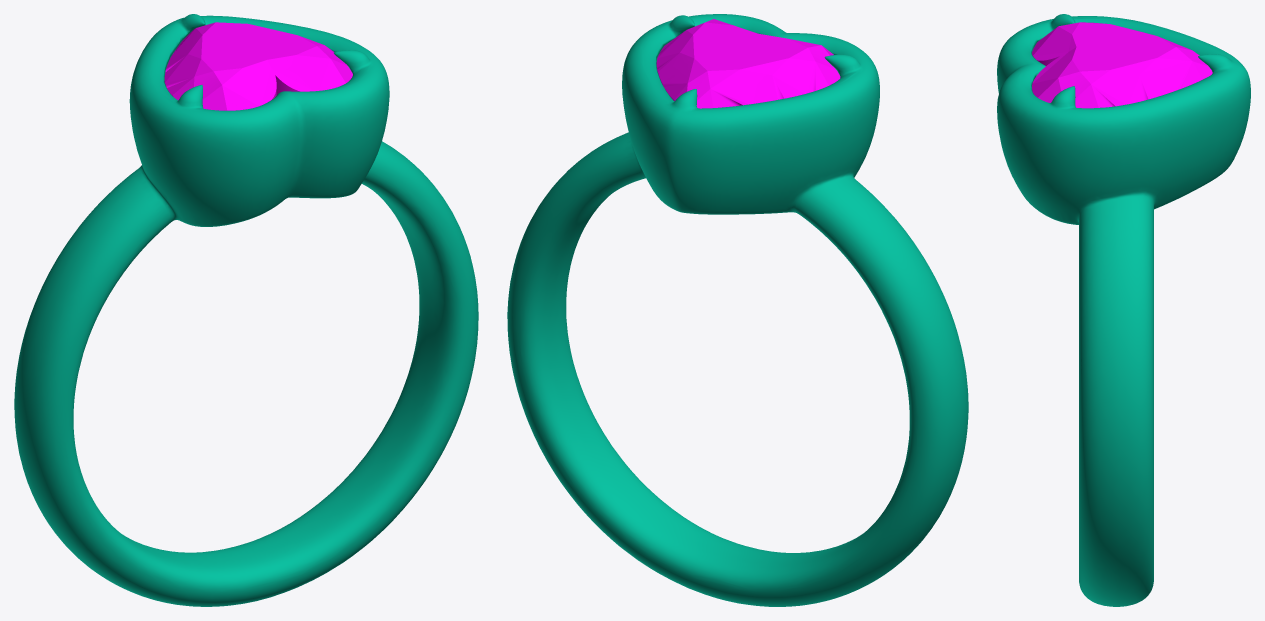
Rendered from BE1D1009_HT_200ct_RENDER.glb.
The picture shows the model from 3 angles, left to right: view 1: azimuth 30°, elevation 25°; view 2: azimuth 150°, elevation 25°; view 3: azimuth 270°, elevation 25°; orthographic projection. The views are drawn at different scales.
Visible parts, largest first — view 1: Metal 01, CS_Diamond_Heart; view 2: Metal 01, CS_Diamond_Heart; view 3: Metal 01, CS_Diamond_Heart.
Boxes of the visible parts, bbox=[...] form: Metal 01: bbox=[14, 14, 478, 606]; CS_Diamond_Heart: bbox=[164, 22, 352, 110]; Metal 01: bbox=[507, 14, 968, 606]; CS_Diamond_Heart: bbox=[656, 19, 840, 108]; Metal 01: bbox=[997, 14, 1250, 606]; CS_Diamond_Heart: bbox=[1032, 22, 1212, 108].
Bounding box in the file's own units: 20.09 × 23.6 × 10.13.
